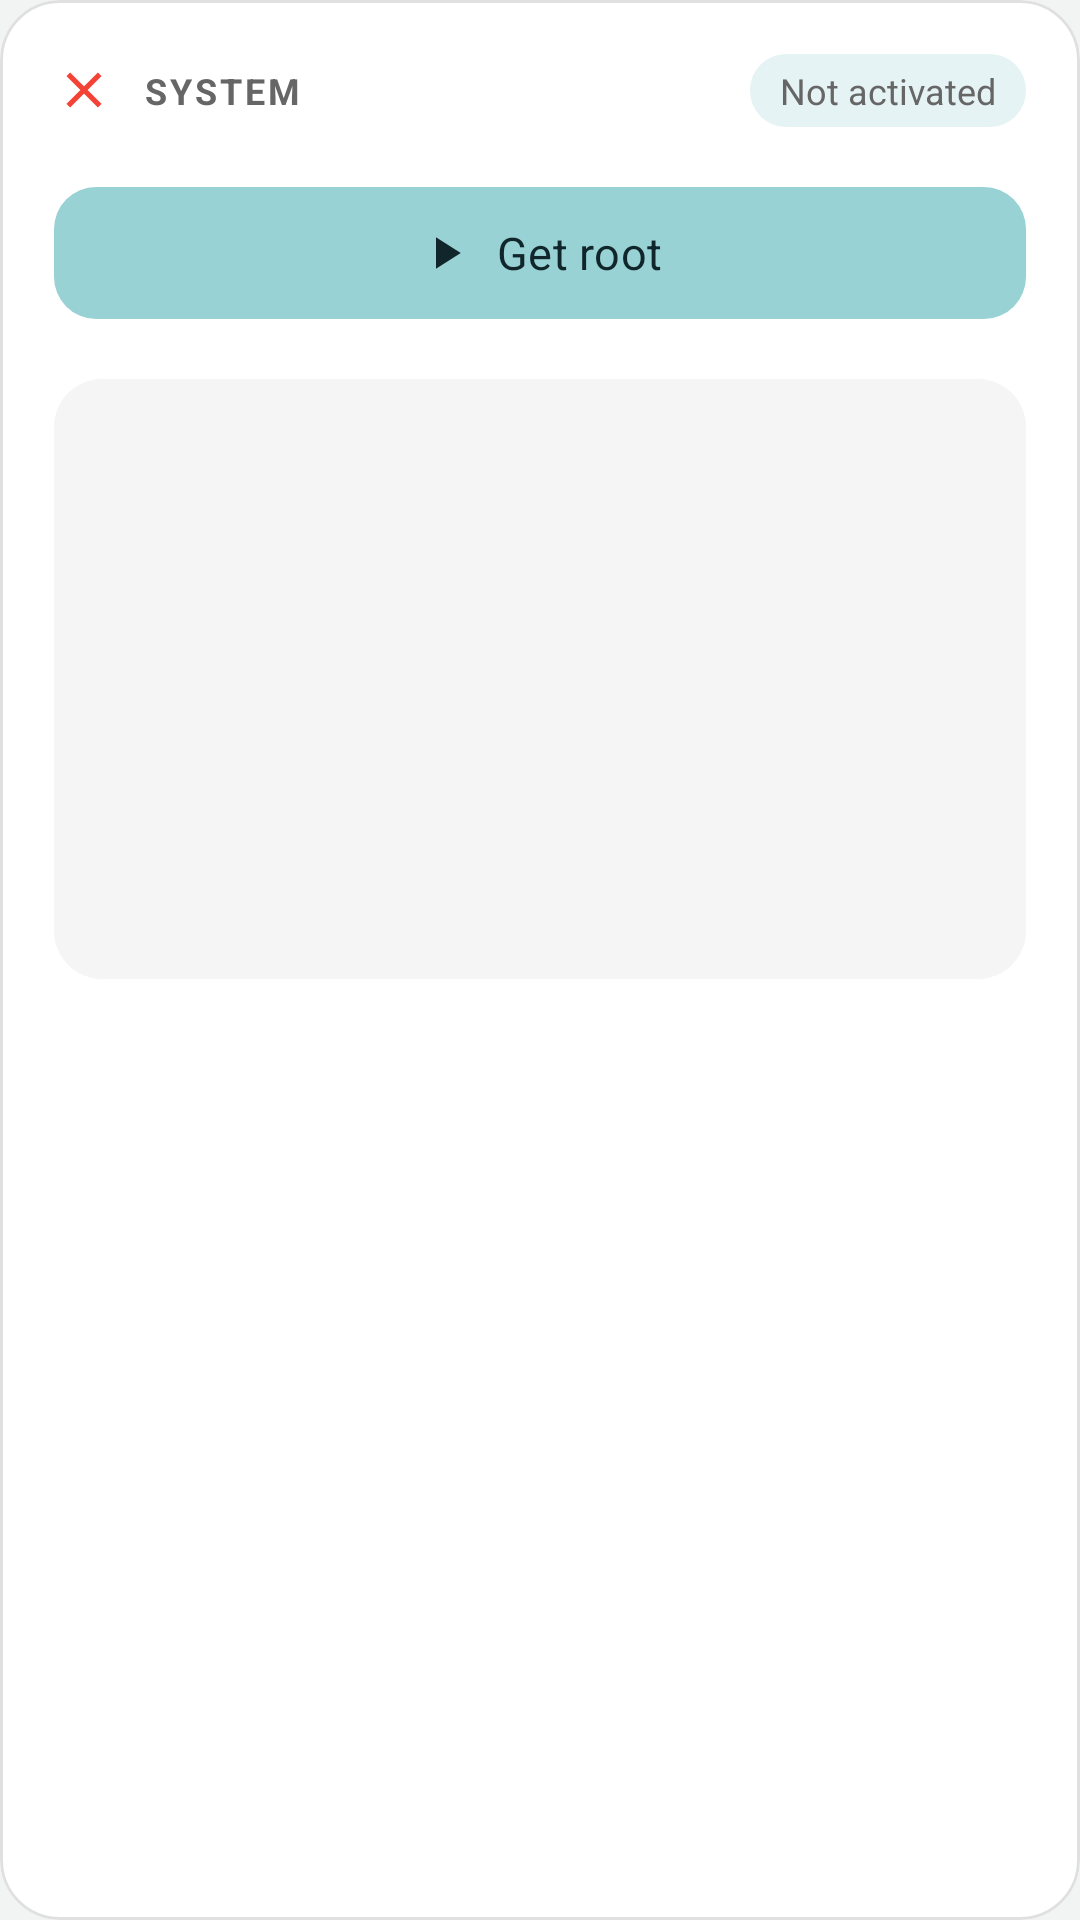

Icons on this 1080w x 1920h Android screen, each with its box as detection(x1, y1, x2, y2):
error: detection(66, 72, 102, 108)
